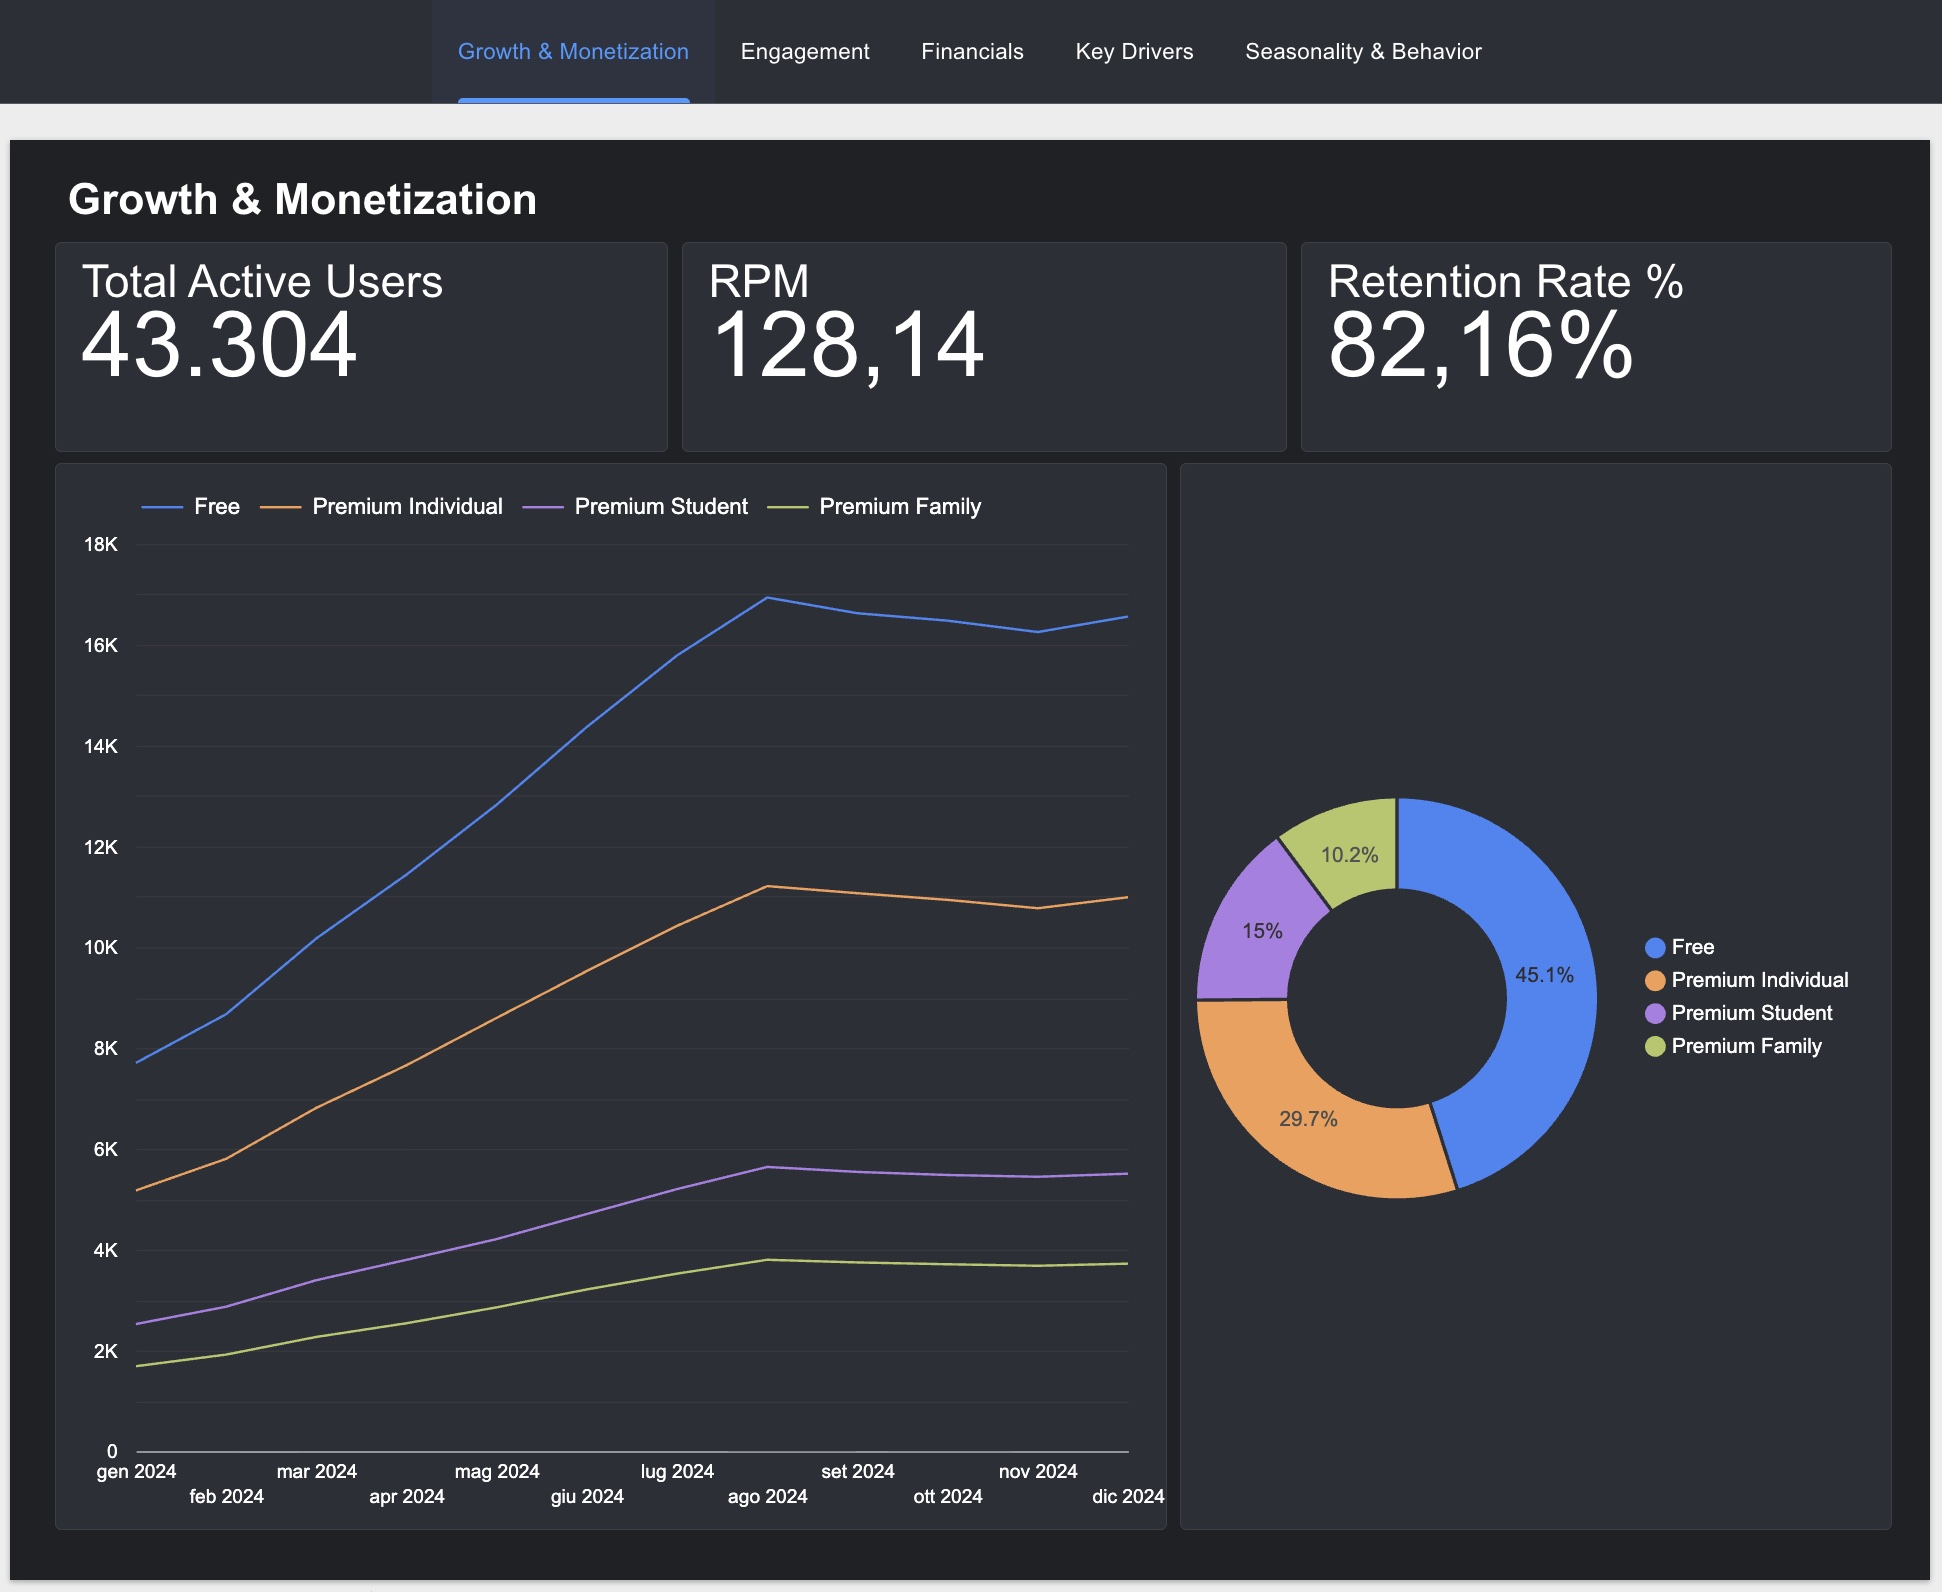

This screenshot's page, from the dashboard's own definition file:
{"tool":"powerbi","page":{"name":"Growth & Monetization","canvas":[1280,720],"ordinal":0},"visuals":[{"type":"slicer","fields":{"Values":["D_Time.Month Name"]},"box":[0,22.9,328.9,73.9],"z":0},{"type":"card","fields":{"Values":["F_Streams.Total Active Users"]},"box":[328.2,0,312.4,119.9],"z":1000},{"type":"card","fields":{"Values":["F_Streams.RPM (Revenue per 1k)"]},"box":[640.5,0,311.3,119.9],"z":2000},{"type":"card","fields":{"Values":["D_Users.Retention Rate %"]},"box":[951.8,0,330.3,119.9],"z":3000},{"type":"lineChart","title":"Monthly Active Users Growth","fields":{"Y":["F_Streams.Total Active Users"],"Series":["D_Users.subscription_plan"],"Category":["D_Time.Month Name"]},"box":[0,119.6,796.6,337.5],"z":4000},{"type":"donutChart","title":"Premium vs Free Mix","fields":{"Category":["D_Users.subscription_plan"],"Y":["F_Streams.Total Active Users"]},"box":[0,457.3,796.5,263.3],"z":5000},{"type":"lineChart","title":"Retention Rate Trend","fields":{"Category":["D_Time.Month Name"],"Y":["D_Users.Retention Rate %"]},"box":[796.6,119.6,484.4,600],"z":6000}]}

Visuals, with their boxes on the page's 1280x720 design canvas (x1, y1, x2, y2). These are canvas units, not pixel positions in the 1942x1592 screenshot, which may show the page scaled, cropped or inside an application window:
slicer - D_Time.Month Name: pyautogui.locateOnScreen(0, 23, 329, 97)
card - F_Streams.Total Active Users: pyautogui.locateOnScreen(328, 0, 641, 120)
card - F_Streams.RPM (Revenue per 1k): pyautogui.locateOnScreen(640, 0, 952, 120)
card - D_Users.Retention Rate %: pyautogui.locateOnScreen(952, 0, 1282, 120)
"Monthly Active Users Growth" lineChart: pyautogui.locateOnScreen(0, 120, 797, 457)
"Premium vs Free Mix" donutChart: pyautogui.locateOnScreen(0, 457, 796, 721)
"Retention Rate Trend" lineChart: pyautogui.locateOnScreen(797, 120, 1281, 720)
